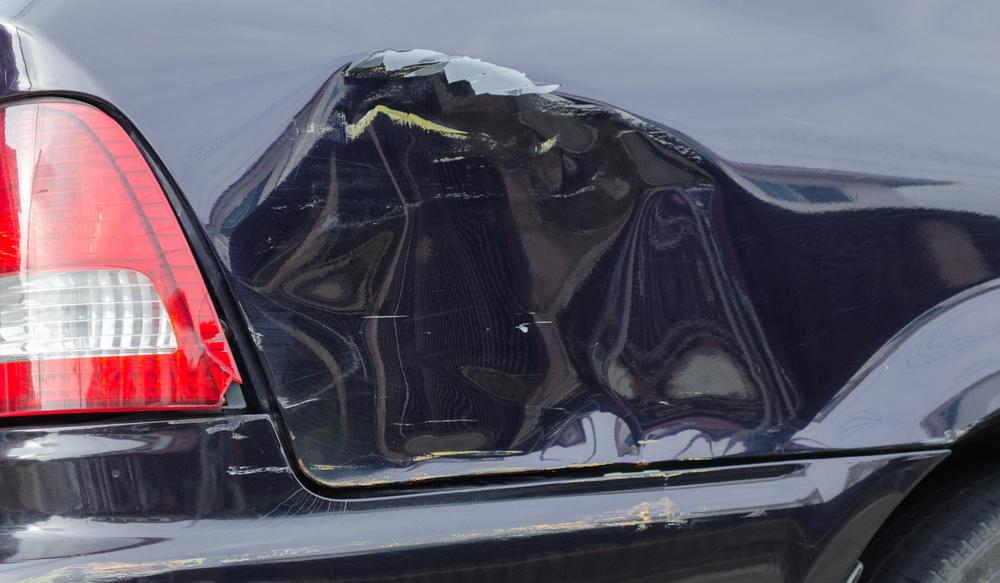dent: (211, 49, 792, 478)
lamp broken: (0, 95, 253, 422)
scratch: (20, 490, 713, 583)
